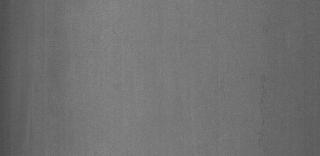silk spot: (256, 68, 278, 140)
